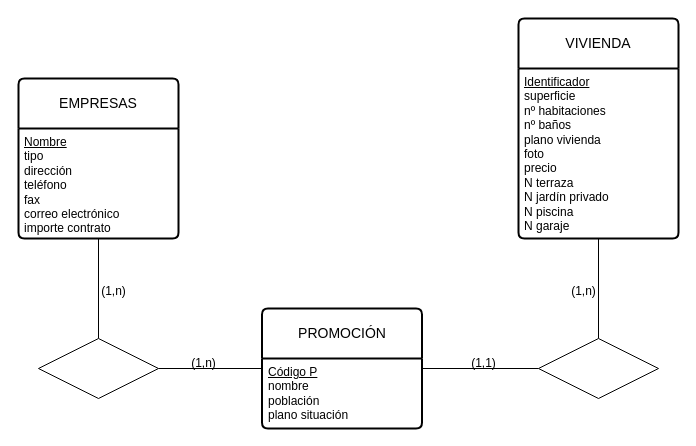
The diagram is 696 pixels wide and 446 high, and some of its shapes have lost their labels. Here are the shapes that lost their labels. From the top down, the centre of each, then its label:
At pixel 98 368: "CONTRATA NxM".
At pixel 598 368: "FORMADA 1xN".
